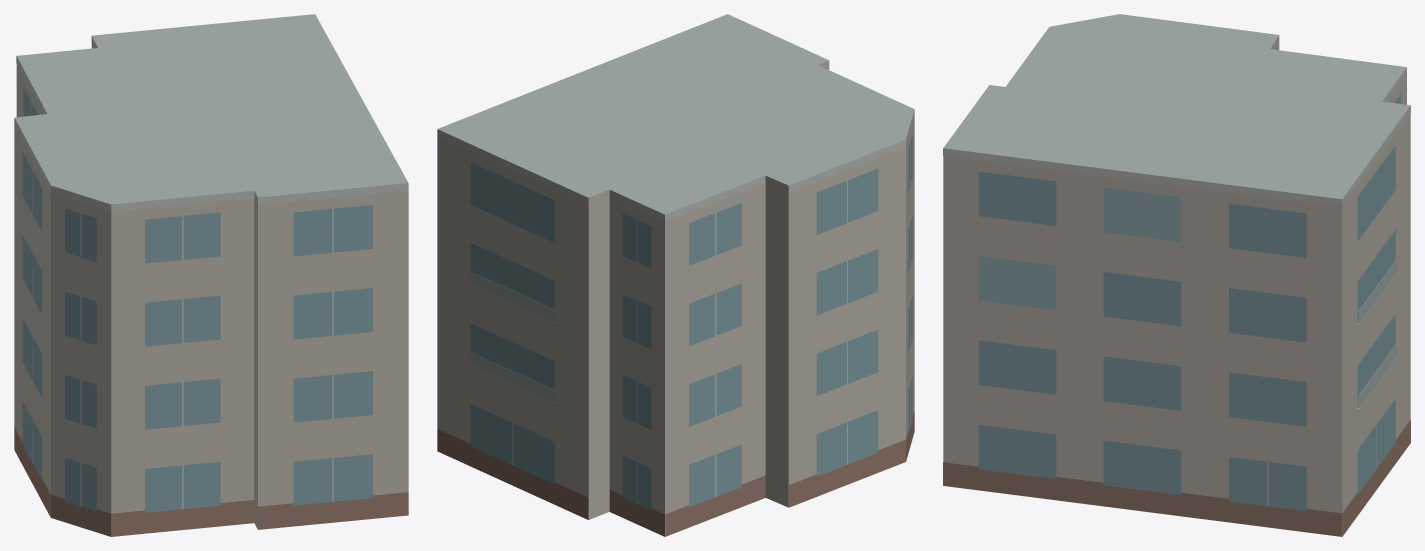
File: survey-upis-32527835.glb
3 views of the same model, side by side, from view 1: azimuth 30°, elevation 25°; view 2: azimuth 150°, elevation 25°; view 3: azimuth 270°, elevation 25° (orthographic). The views are drawn at different scales.
Parts seen in each view (by area): view 1: survey-upis-32527835.tmp; view 2: survey-upis-32527835.tmp; view 3: survey-upis-32527835.tmp.
Boxes of the visible parts, x1,y1,x2,y2 form: survey-upis-32527835.tmp: [14, 14, 408, 536]; survey-upis-32527835.tmp: [437, 14, 914, 536]; survey-upis-32527835.tmp: [943, 14, 1410, 536].
Bounding box in the file's own units: 12.49 × 10.6 × 13.32.
